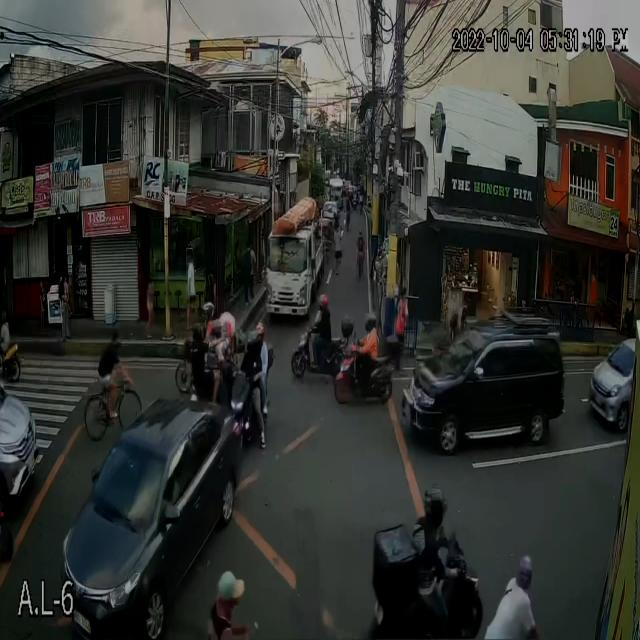Full-Faced: (419, 486, 446, 529), (202, 318, 217, 343), (223, 301, 237, 324), (317, 289, 329, 315), (183, 322, 197, 344), (248, 330, 258, 354), (364, 315, 375, 336), (256, 321, 264, 337), (0, 307, 5, 330)
Invalid: (511, 554, 532, 588)
